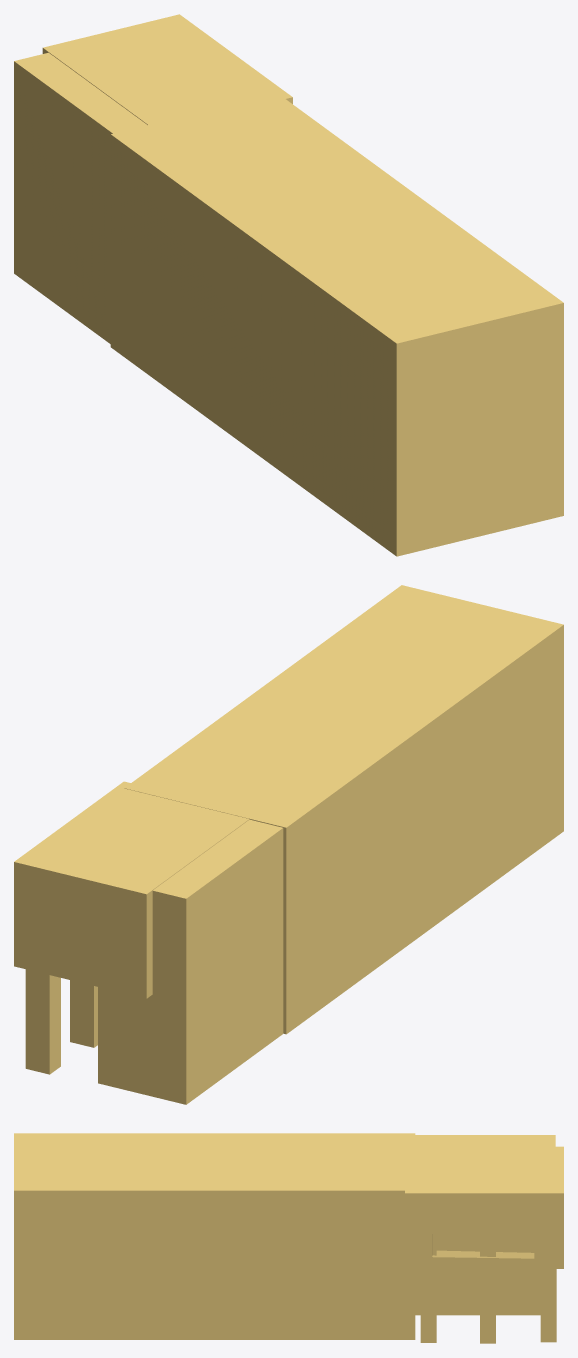
The model's file is RMCNav.glb.
The picture shows the model from 3 angles, top to bottom: view 1: azimuth 30°, elevation 25°; view 2: azimuth 150°, elevation 25°; view 3: azimuth 270°, elevation 25°; orthographic projection. The views are drawn at different scales.
Visible parts, largest first — view 1: Cube.004, Cube.005, Cube; view 2: Cube.004, Cube.005, Cube, Cube.003, Cube.002; view 3: Cube.004, Cube, Cube.005, Cube.002, Cube.001, Cube.003.
Part boxes in pixels (x1,y1,x2,y2): Cube.004: (110, 93, 563, 556); Cube.005: (14, 52, 147, 343); Cube: (42, 14, 292, 124); Cube.004: (124, 585, 563, 1034); Cube.005: (98, 819, 283, 1104); Cube: (14, 781, 249, 998); Cube.003: (25, 969, 60, 1074); Cube.002: (70, 980, 97, 1047); Cube.004: (14, 1133, 415, 1339); Cube: (405, 1146, 563, 1268); Cube.005: (415, 1135, 555, 1315); Cube.002: (480, 1234, 495, 1343); Cube.001: (420, 1234, 436, 1342); Cube.003: (540, 1269, 556, 1342).
Bounding box in the file's own units: 12.01 × 14.47 × 46.64.
